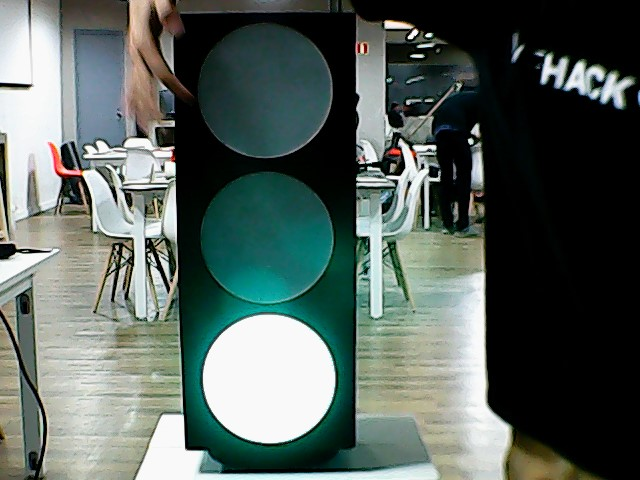verde: (151, 10, 376, 454)
